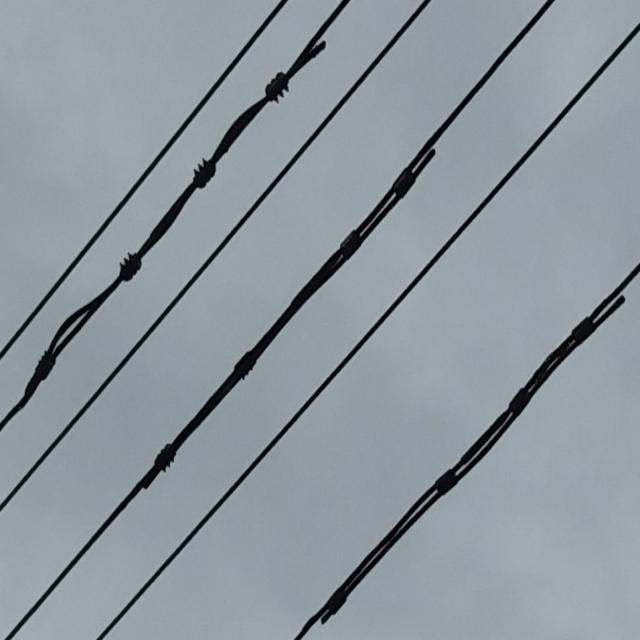wire: (92, 20, 640, 640), (0, 0, 437, 519), (277, 248, 640, 640)
